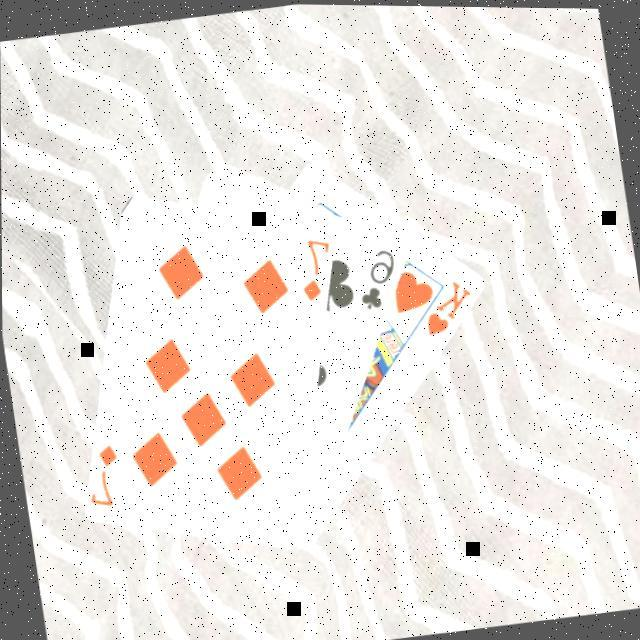6C: (348, 242, 403, 314)
7D: (290, 231, 336, 304), (79, 438, 125, 511)
KH: (414, 272, 478, 338)
